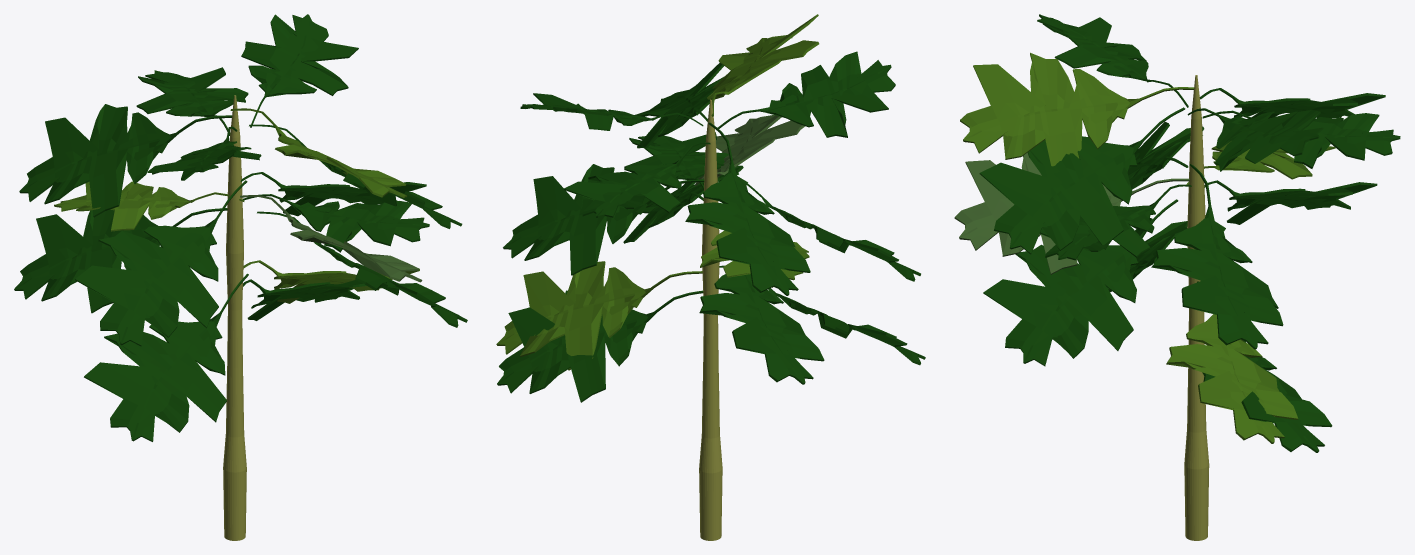
The model's file is papaya.glb.
3 views of the same model, side by side, from view 1: azimuth 30°, elevation 25°; view 2: azimuth 150°, elevation 25°; view 3: azimuth 270°, elevation 25° (orthographic). The views are drawn at different scales.
Visible parts, largest first — view 1: Cube.005, Cube.006, Cube.001, Cylinder, Cube.003, Cube.015, Cube.012, Cube, Cube.004, Cube.011, Cube.013, Cube.009 (+5 smaller); view 2: Cube.014, Cube.001, Cube.013, Cube.002, Cube.003, Cylinder, Cube.007, Cube, Cube.008, Cube.010, Cube.009, Cube.012 (+5 smaller); view 3: Cube.008, Cube.010, Cube.011, Cube.013, Cube.014, Cylinder, Cube.015, Cube.009, Cube.007, Cube, Cube.002, Cube.003 (+5 smaller).
Part boxes in pixels (left/top/right/bottom): Cube.005: left=75, top=180, right=247, bottom=346; Cube.006: left=84, top=273, right=248, bottom=441; Cube.001: left=19, top=104, right=231, bottom=217; Cylinder: left=223, top=95, right=246, bottom=540; Cube.003: left=14, top=208, right=227, bottom=313; Cube.015: left=241, top=14, right=358, bottom=127; Cube.012: left=243, top=194, right=429, bottom=252; Cube: left=136, top=67, right=248, bottom=135; Cube.004: left=54, top=181, right=244, bottom=231; Cube.011: left=257, top=211, right=467, bottom=327; Cube.013: left=240, top=172, right=426, bottom=216; Cube.009: left=240, top=195, right=422, bottom=282; Cube.014: left=496, top=261, right=702, bottom=370; Cube.001: left=685, top=122, right=810, bottom=295; Cube.013: left=503, top=164, right=704, bottom=275; Cube.002: left=497, top=290, right=703, bottom=402; Cube.003: left=699, top=274, right=824, bottom=384; Cylinder: left=699, top=99, right=722, bottom=540; Cube.007: left=717, top=51, right=895, bottom=137; Cube: left=564, top=142, right=710, bottom=217; Cube.008: left=707, top=14, right=819, bottom=116; Cube.010: left=634, top=63, right=724, bottom=148; Cube.009: left=695, top=115, right=805, bottom=185; Cube.012: left=624, top=132, right=728, bottom=189; Cube.008: left=960, top=52, right=1193, bottom=166; Cube.010: left=979, top=107, right=1185, bottom=254; Cube.011: left=983, top=199, right=1178, bottom=366; Cube.013: left=1151, top=164, right=1283, bottom=349; Cube.014: left=1166, top=314, right=1298, bottom=443; Cylinder: left=1184, top=75, right=1209, bottom=540; Cube.015: left=1187, top=108, right=1323, bottom=171; Cube.009: left=954, top=152, right=1189, bottom=274; Cube.007: left=1037, top=14, right=1188, bottom=107; Cube: left=1202, top=110, right=1400, bottom=168; Cube.002: left=1197, top=281, right=1332, bottom=452; Cube.003: left=1204, top=180, right=1377, bottom=224.
Bounding box in the file's own units: 2.94 × 3.53 × 3.
